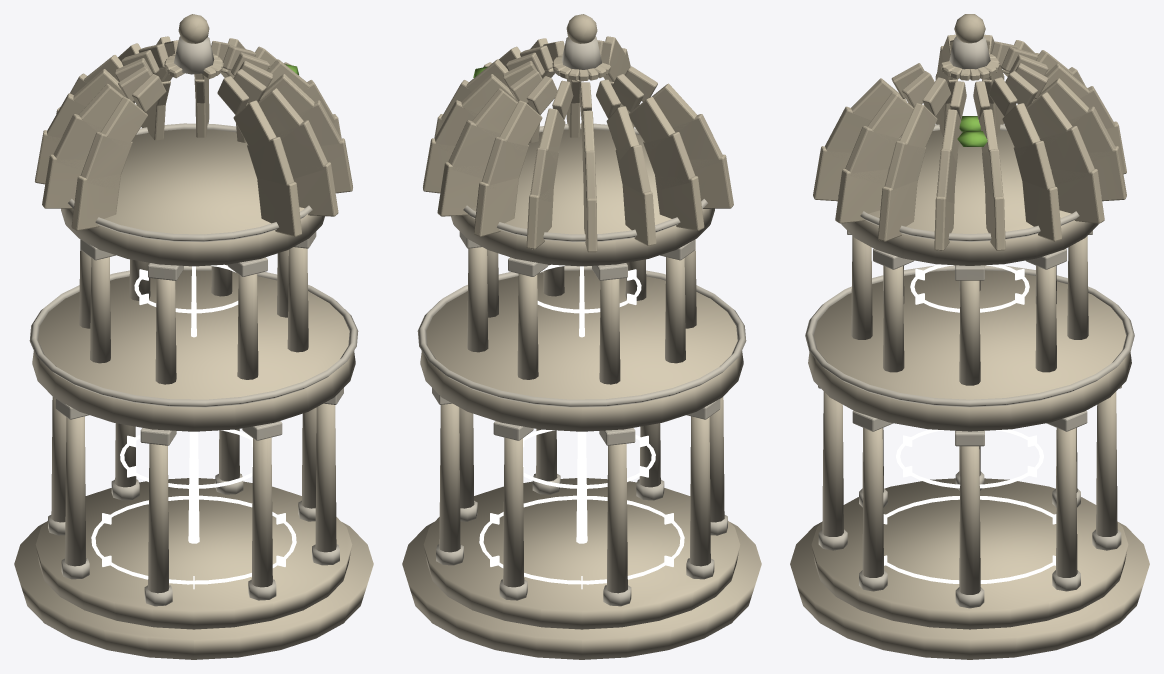
Rendered from rotunda.glb.
3 renders of one model, left to right at view 1: azimuth 30°, elevation 25°; view 2: azimuth 150°, elevation 25°; view 3: azimuth 270°, elevation 25°, orthographic.
Visible parts, largest first — view 1: Rotunda, Glow; view 2: Rotunda, Glow; view 3: Rotunda, Glow.
Part boxes in pixels (left/top/right/bottom): Rotunda: left=14, top=14, right=373, bottom=659; Glow: left=91, top=264, right=296, bottom=589; Rotunda: left=402, top=14, right=761, bottom=659; Glow: left=479, top=264, right=684, bottom=589; Rotunda: left=790, top=14, right=1149, bottom=659; Glow: left=883, top=264, right=1056, bottom=583.
Bounding box in the file's own units: 5 × 8.77 × 5.
